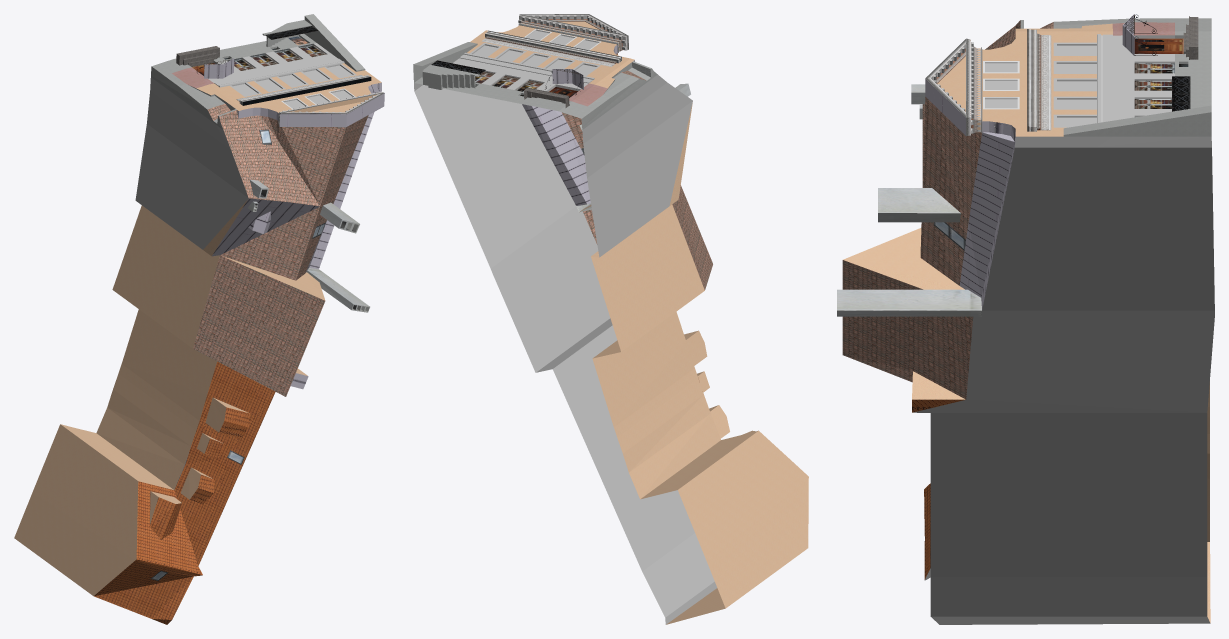
File: Kuninga_3.obj
3 renders of one model, left to right at view 1: azimuth 30°, elevation 25°; view 2: azimuth 150°, elevation 25°; view 3: azimuth 270°, elevation 25°, orthographic. The views are drawn at different scales.
Visible parts, largest first — view 1: Kuninga_3, xxx; view 2: Kuninga_3, xxx; view 3: xxx, Kuninga_3.
Boxes of the visible parts, bbox=[...] form: Kuninga_3: bbox=[14, 14, 384, 624]; xxx: bbox=[135, 75, 248, 485]; Kuninga_3: bbox=[413, 14, 808, 624]; xxx: bbox=[414, 68, 717, 624]; xxx: bbox=[913, 136, 1214, 624]; Kuninga_3: bbox=[837, 14, 1211, 622].
Bounding box in the file's own units: 26.44 × 40.79 × 20.41.
